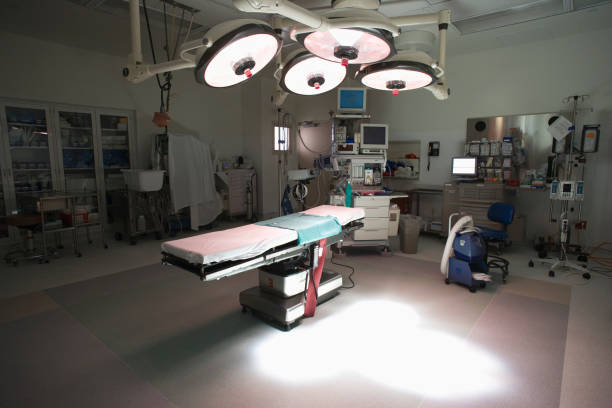bedside_monitor: (359, 122, 391, 150)
cabinet: (3, 99, 144, 242)
chair: (474, 202, 514, 284)
computer: (449, 157, 483, 184)
infusion_pump: (550, 179, 585, 202)
iv_pole: (527, 90, 593, 280), (271, 105, 292, 216)
medical_drawer: (443, 187, 514, 247), (347, 197, 390, 241)
operating_bed: (162, 204, 365, 333)
surgical_light: (195, 19, 279, 89), (299, 22, 395, 66), (354, 52, 439, 96), (280, 52, 348, 96)
utility_cart: (25, 189, 108, 262)
ventilator: (329, 153, 398, 252)
waste_bin: (397, 211, 425, 253)
